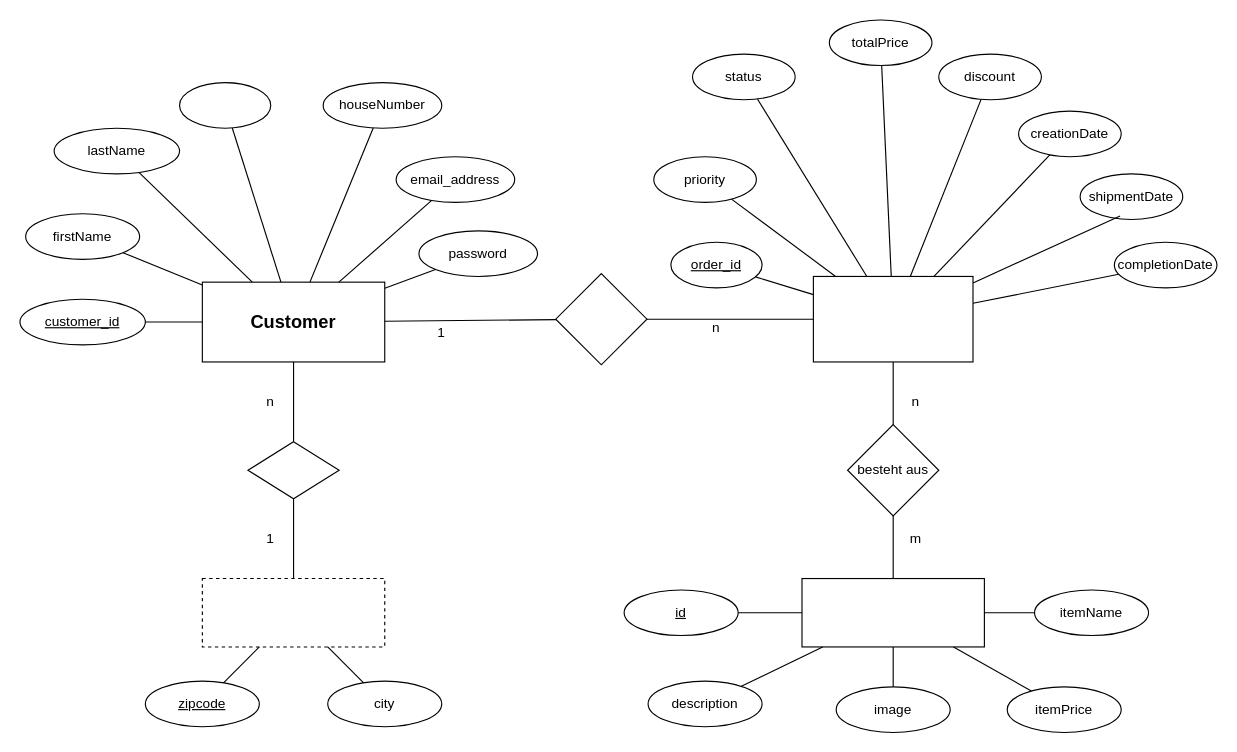
This 1237x752 diagram has some shape labels left out. Here are the shapes that lost their labels. From the top down, the centre of each, then its label:
(224,105): street
(601,318): orders/gets ordered
(892,318): Orders
(293,470): lives in
(293,612): Cities
(892,612): Shopitems
